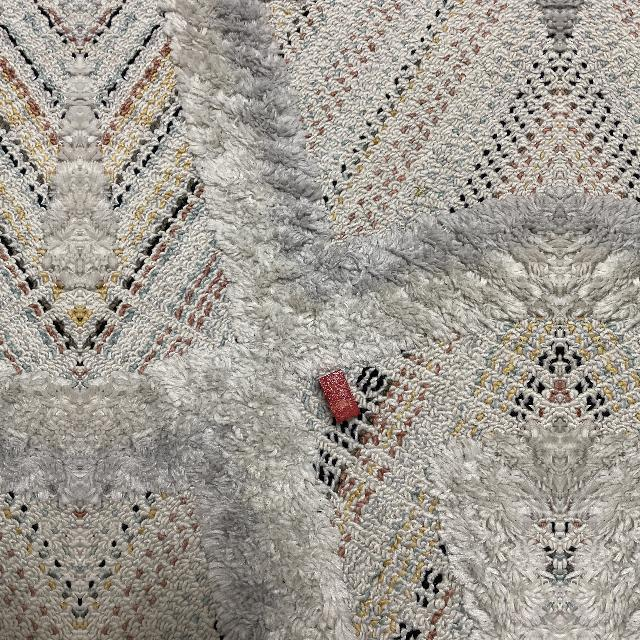red block: (318, 369, 361, 423)
